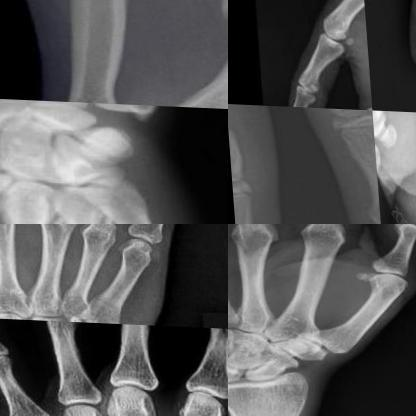fracture: (7, 285, 43, 316)
